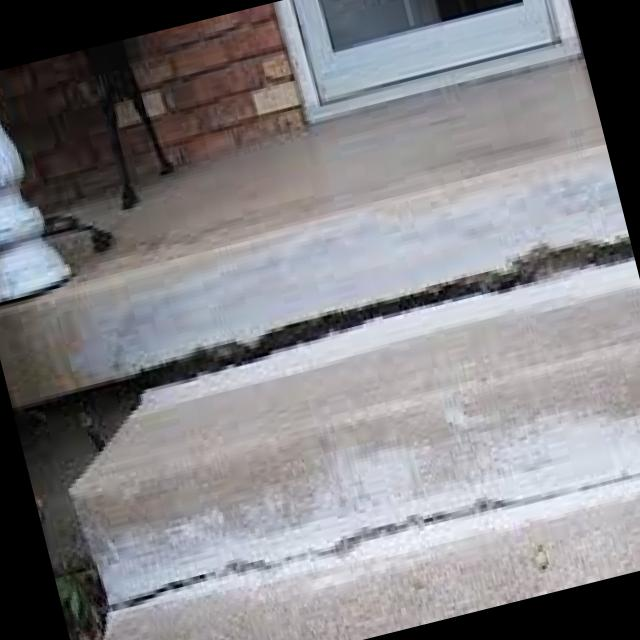crack: (132, 212, 637, 392)
